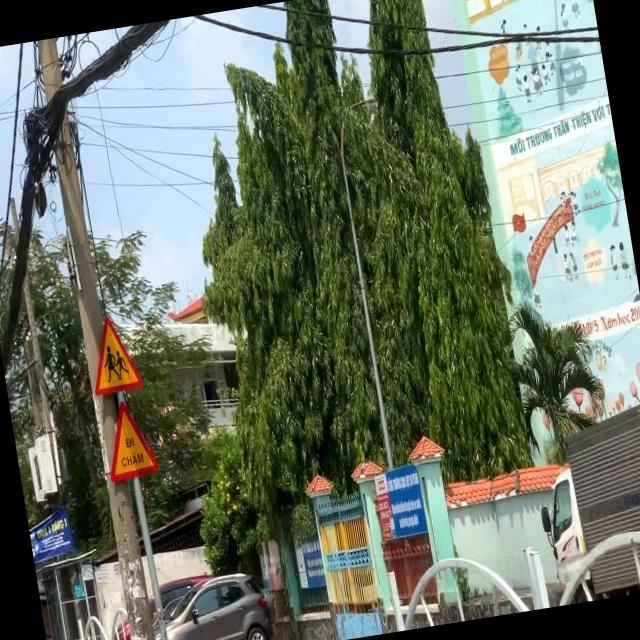W-225: (83, 310, 145, 396)
W-245a: (98, 396, 160, 484)
